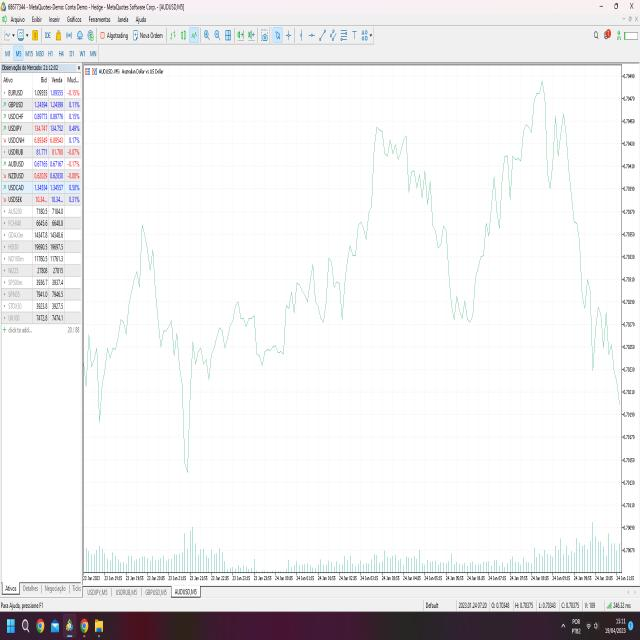oco: (120, 194, 165, 321)
